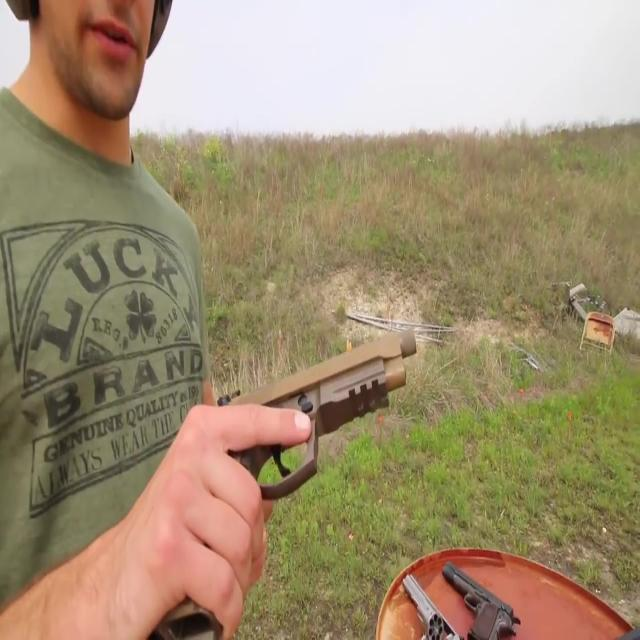Weapon: (170, 307, 537, 640)
